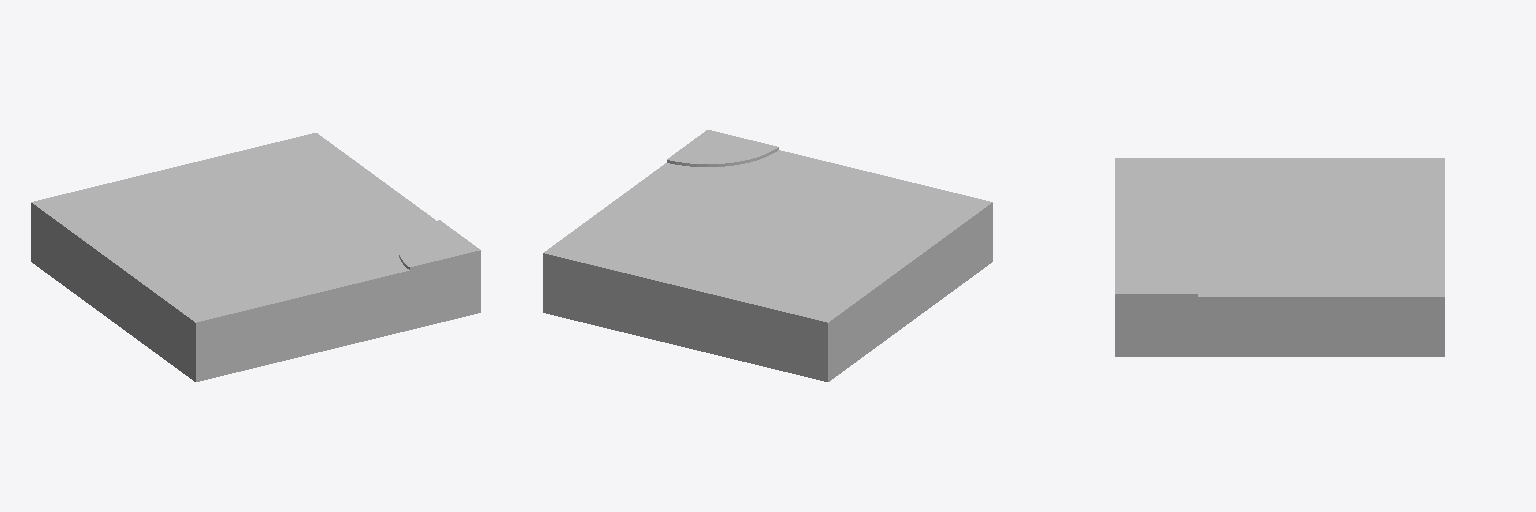
File: tile228.obj
The picture shows the model from 3 angles: view 1: azimuth 30°, elevation 25°; view 2: azimuth 150°, elevation 25°; view 3: azimuth 270°, elevation 25°; orthographic projection.
Visible parts, largest first — view 1: tile228; view 2: tile228; view 3: tile228.
Boxes of the visible parts, x1,y1,x2,y2 form: tile228: [31, 133, 480, 381]; tile228: [543, 130, 992, 381]; tile228: [1115, 158, 1444, 356].
Bounding box in the file's own units: 1 × 0.21 × 1.